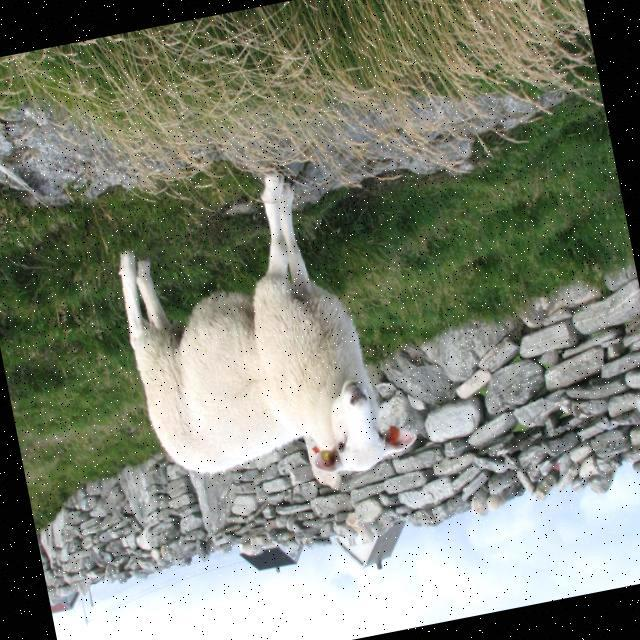sheep: (127, 174, 413, 481)
